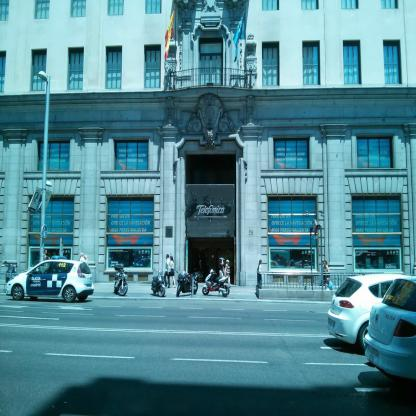Car: (325, 256, 410, 351), (361, 273, 415, 384), (6, 258, 95, 304)
